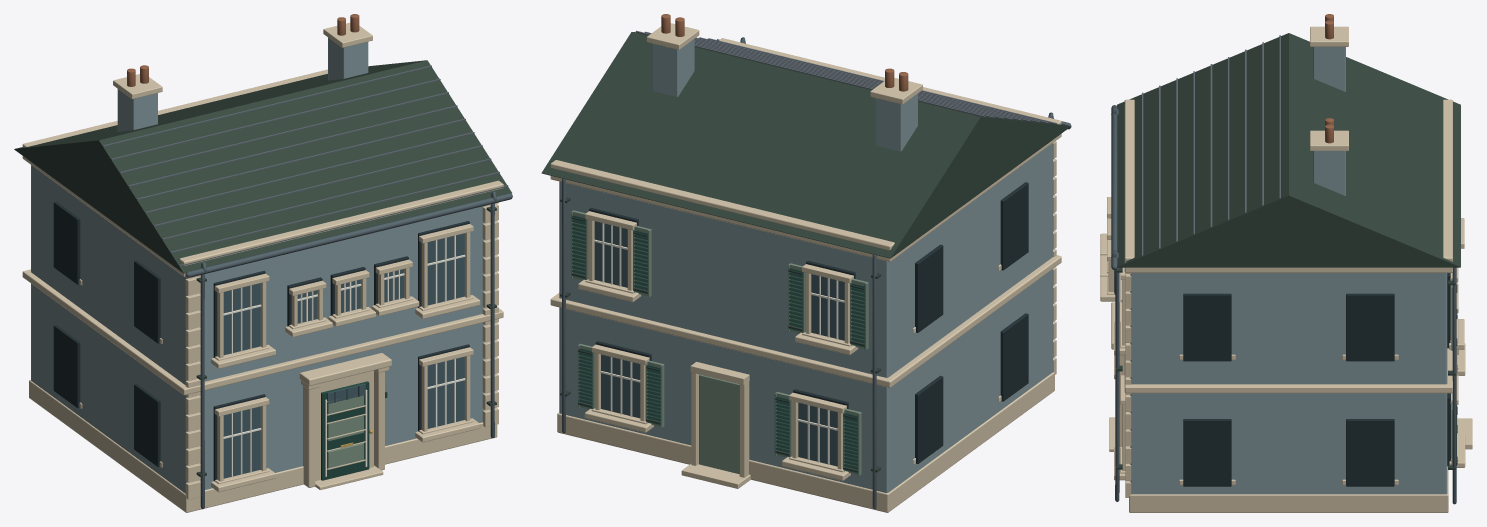
Rendered from blue_workshop.glb.
3 views of the same model, side by side, from view 1: azimuth 30°, elevation 25°; view 2: azimuth 150°, elevation 25°; view 3: azimuth 270°, elevation 25° (orthographic). The views are drawn at different scales.
Parts seen in each view (by area): view 1: Pitched_slate_roof, Building_masonry, Stone_plinth, Continuous_cornice, Continuous_cornice.002, Zinc_gutter, Window_glass.002, Window_glass, Window_glass.004, Window_glass.001, Entry_door, Window_recess.009 (+31 smaller); view 2: Building_masonry, Pitched_slate_roof, Stone_plinth, Continuous_cornice, Continuous_cornice.002, Garden_entry_door, Continuous_cornice.001, Window_recess.008, Window_recess.010, Window_recess.011, Window_recess.009, Chimney_stack.001 (+20 smaller); view 3: Pitched_slate_roof, Building_masonry, Stone_plinth, Continuous_cornice, Window_recess.014, Window_recess.015, Continuous_cornice.002, Window_recess.013, Window_recess.012, Continuous_cornice.001, Chimney_stack.001, Chimney_stack (+6 smaller).
Boxes of the visible parts, box(x1,y1,x2,y2) form: Pitched_slate_roof: box(14, 60, 511, 273); Building_masonry: box(31, 165, 484, 493); Stone_plinth: box(29, 380, 497, 512); Continuous_cornice: box(22, 269, 503, 395); Continuous_cornice.002: box(22, 69, 503, 265); Zinc_gutter: box(185, 193, 512, 277); Window_glass.002: box(223, 283, 260, 355); Window_glass: box(223, 406, 260, 478); Window_glass.004: box(427, 233, 464, 305); Window_glass.001: box(427, 357, 464, 428); Entry_door: box(321, 381, 369, 480); Window_recess.009: box(53, 325, 80, 408); Building_masonry: box(559, 143, 1052, 492); Pitched_slate_roof: box(541, 32, 1070, 258); Stone_plinth: box(557, 372, 1054, 512); Continuous_cornice: box(550, 255, 1061, 387); Continuous_cornice.002: box(550, 38, 1061, 250); Garden_entry_door: box(699, 374, 739, 474); Continuous_cornice.001: box(550, 134, 1061, 261); Window_recess.008: box(1000, 313, 1028, 401); Window_recess.010: box(1000, 182, 1028, 270); Window_recess.011: box(915, 244, 943, 332); Window_recess.009: box(915, 375, 943, 463); Chimney_stack.001: box(651, 39, 694, 96); Pitched_slate_roof: box(1117, 33, 1460, 267); Building_masonry: box(1130, 273, 1447, 494); Stone_plinth: box(1129, 466, 1448, 512); Continuous_cornice: box(1124, 348, 1452, 393); Window_recess.014: box(1346, 293, 1394, 361); Window_recess.015: box(1183, 293, 1231, 361); Continuous_cornice.002: box(1124, 99, 1452, 261); Window_recess.013: box(1183, 419, 1231, 486); Window_recess.012: box(1346, 419, 1394, 486); Continuous_cornice.001: box(1124, 267, 1452, 272); Chimney_stack.001: box(1313, 151, 1345, 195); Chimney_stack: box(1313, 47, 1345, 91).
Size of the model in its own units: 8.5 by 8.9 by 8.23.
